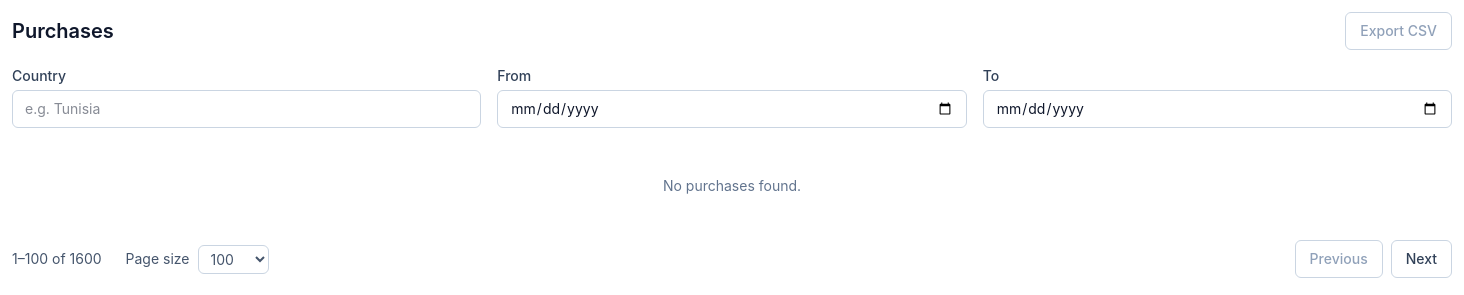
Test: PurchasesPage › requests the next page on clicking Next, using the offset/limit contract
Expected: the text "1–100 of 1600" is shown, [12,249,102,269]
Click the button "Next" at point(1421, 259), box [1391,240,1452,278]
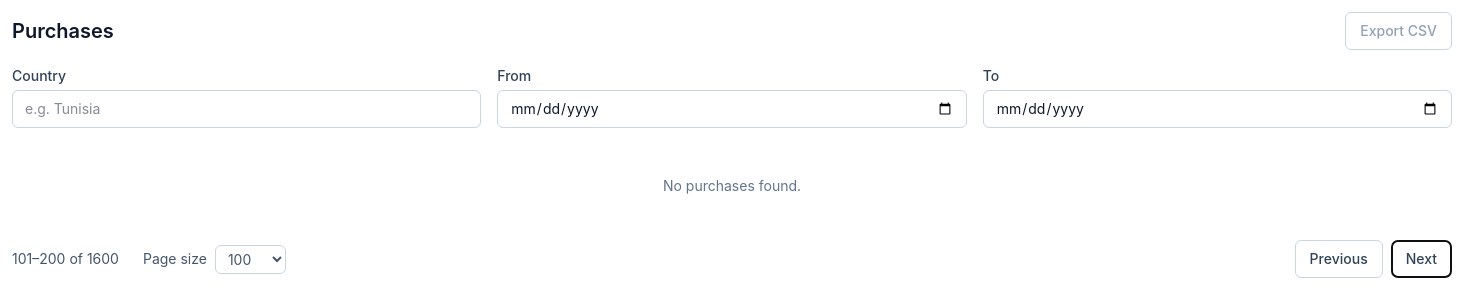
Now the text "101–200 of 1600" is shown, box [12,249,119,269]
